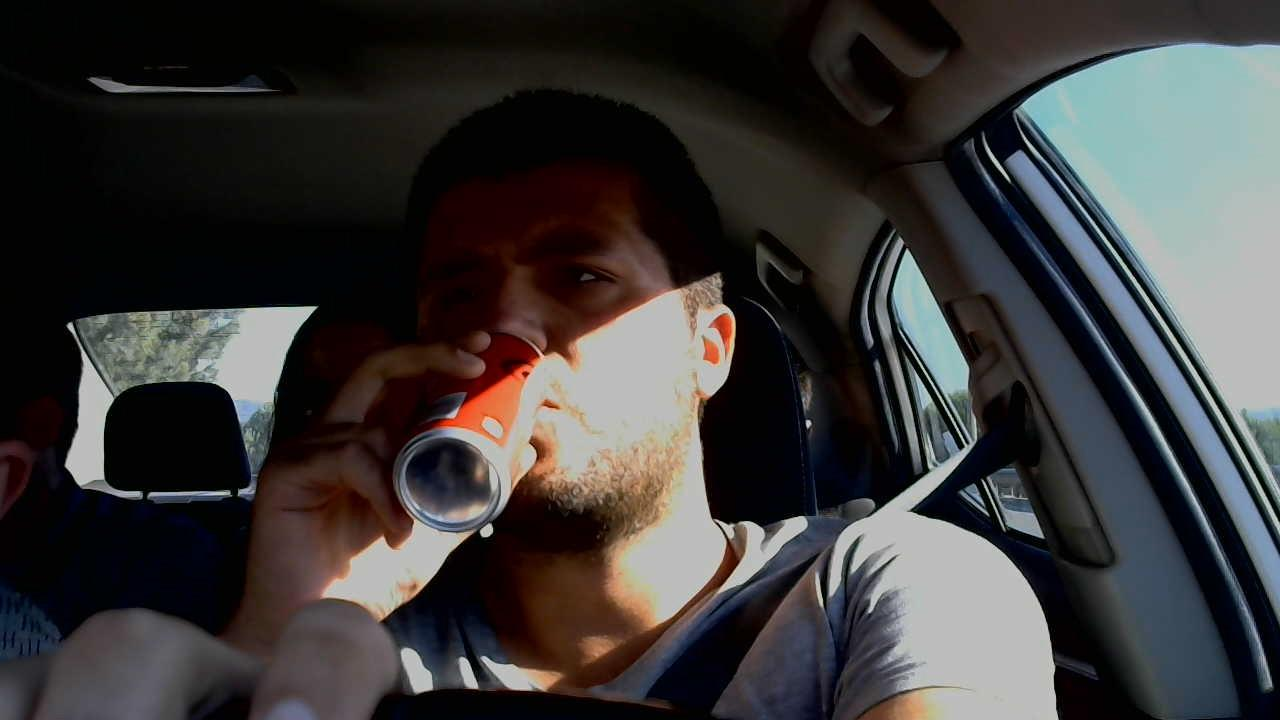Drinking: (366, 172, 736, 544)
